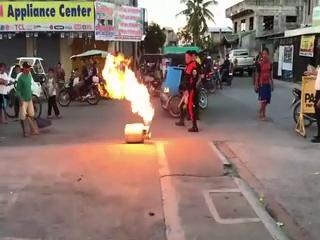Fire: (100, 54, 155, 126)
